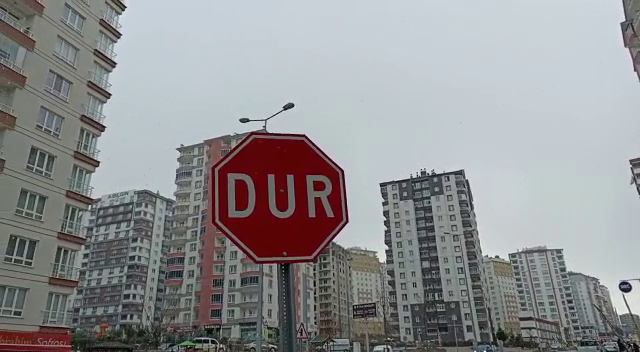stop: (208, 129, 352, 266)
